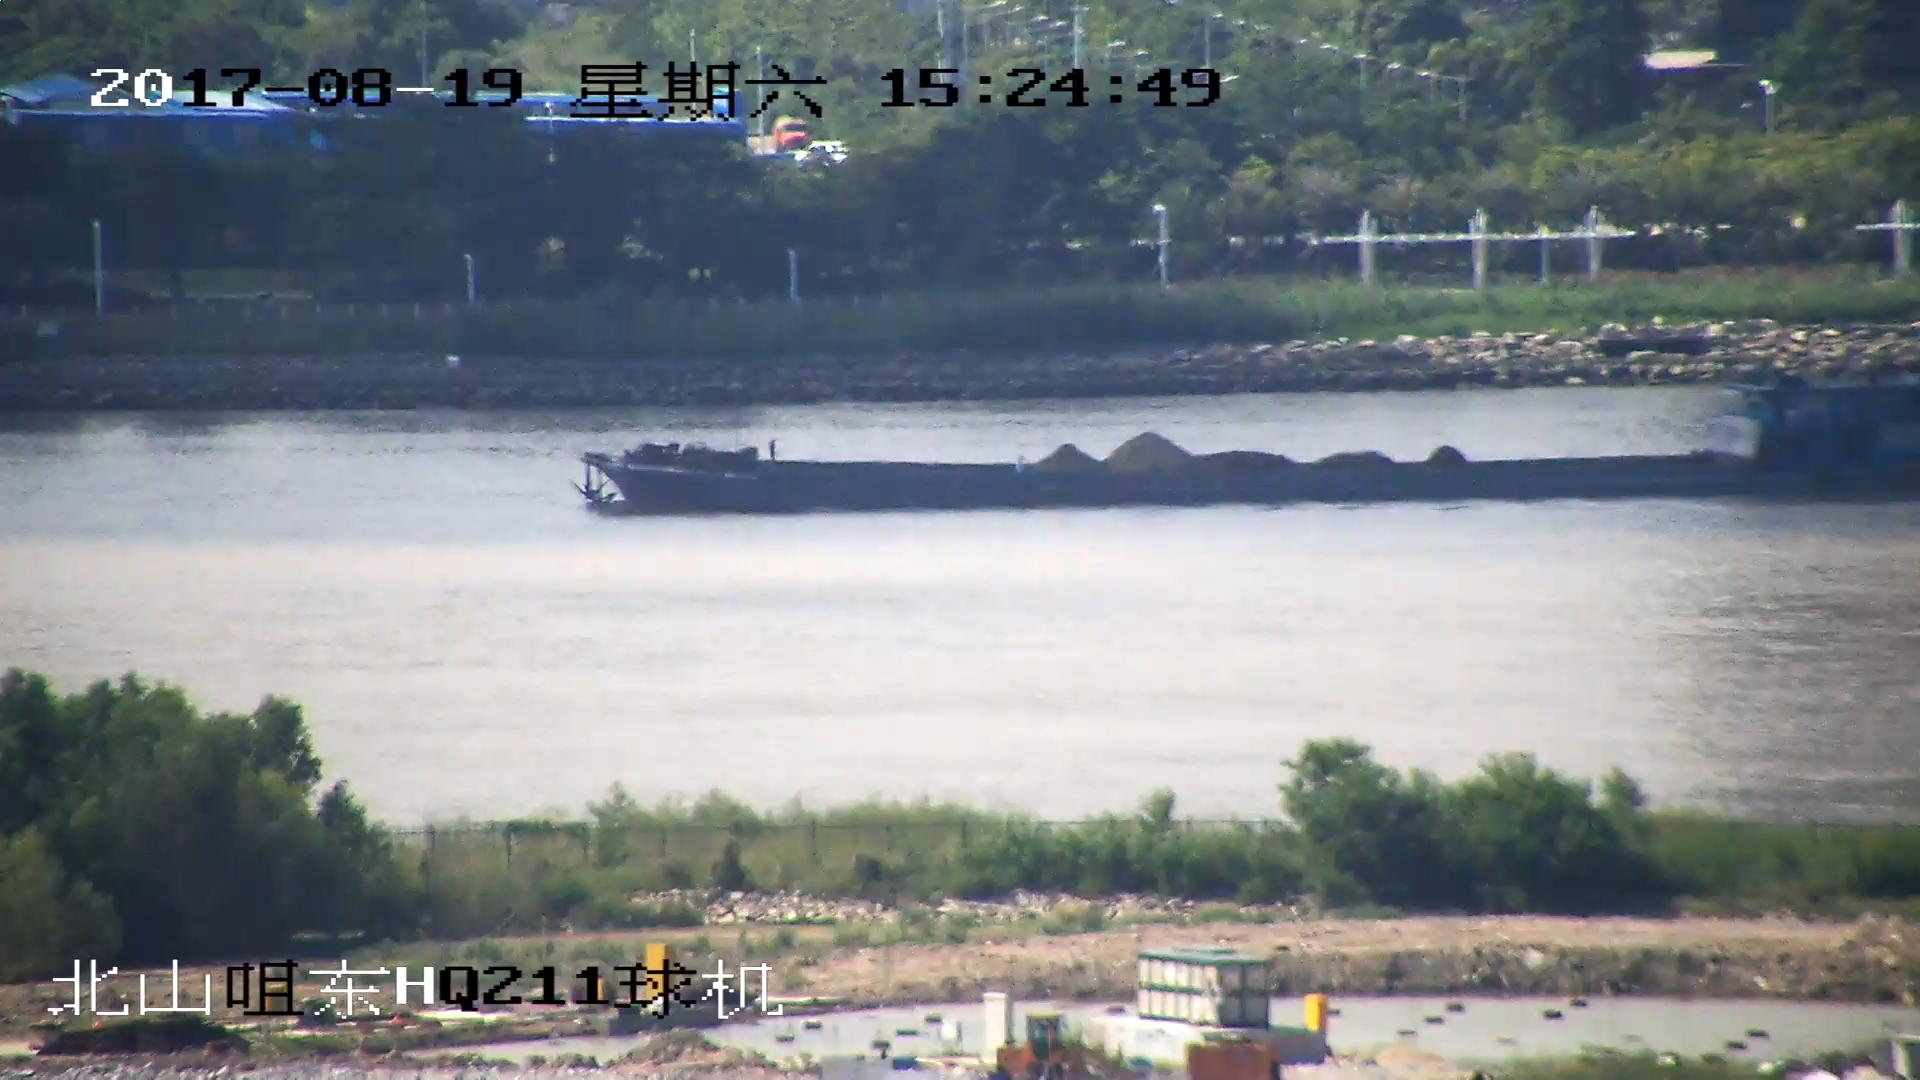ore carrier: (592, 366, 1920, 517)
